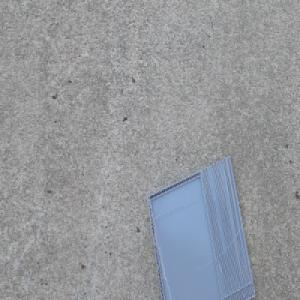PlasticPart: (146, 155, 256, 300)
